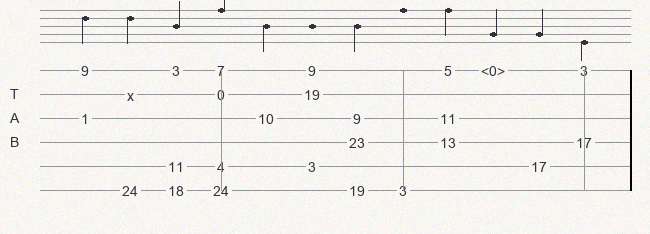0: (217, 87, 229, 101)
1: (81, 111, 93, 125)
10: (258, 111, 278, 125)
11: (168, 159, 188, 173), (440, 111, 460, 125)
13: (440, 135, 460, 149)
17: (531, 159, 551, 173), (576, 135, 596, 149)
18: (168, 183, 188, 197)
19: (304, 87, 324, 101), (349, 183, 369, 197)
23: (349, 135, 369, 149)
24: (122, 183, 142, 197), (213, 183, 233, 197)
3: (172, 63, 184, 77), (308, 159, 320, 173), (399, 183, 411, 197), (580, 63, 592, 77)
4: (217, 159, 229, 173)
5: (444, 63, 456, 77)
7: (217, 63, 229, 77)
9: (81, 63, 93, 77), (308, 63, 320, 77), (353, 111, 365, 125)
harmonic: (481, 63, 509, 77)
x: (127, 88, 138, 100)
